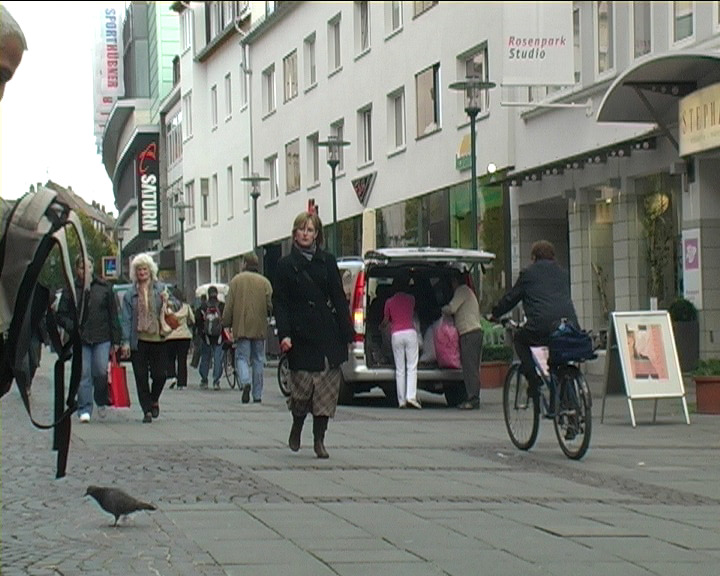undeflect: (282, 207, 336, 289)
